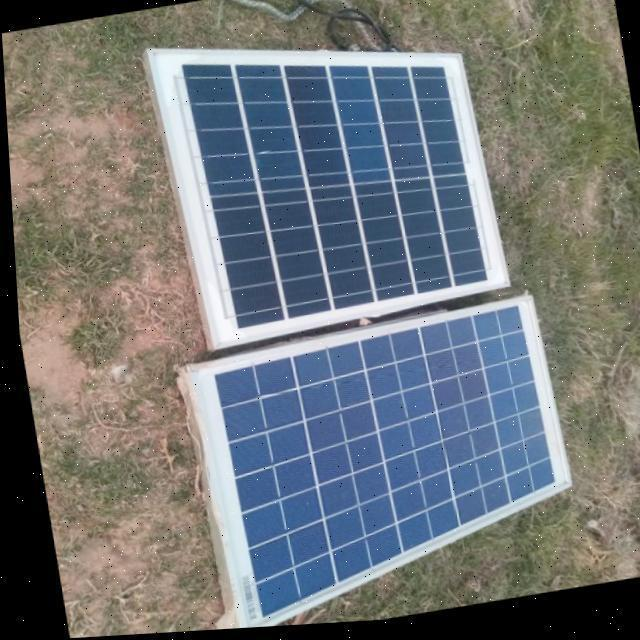Normal Solar Panel: (178, 296, 574, 632), (143, 2, 508, 350)
